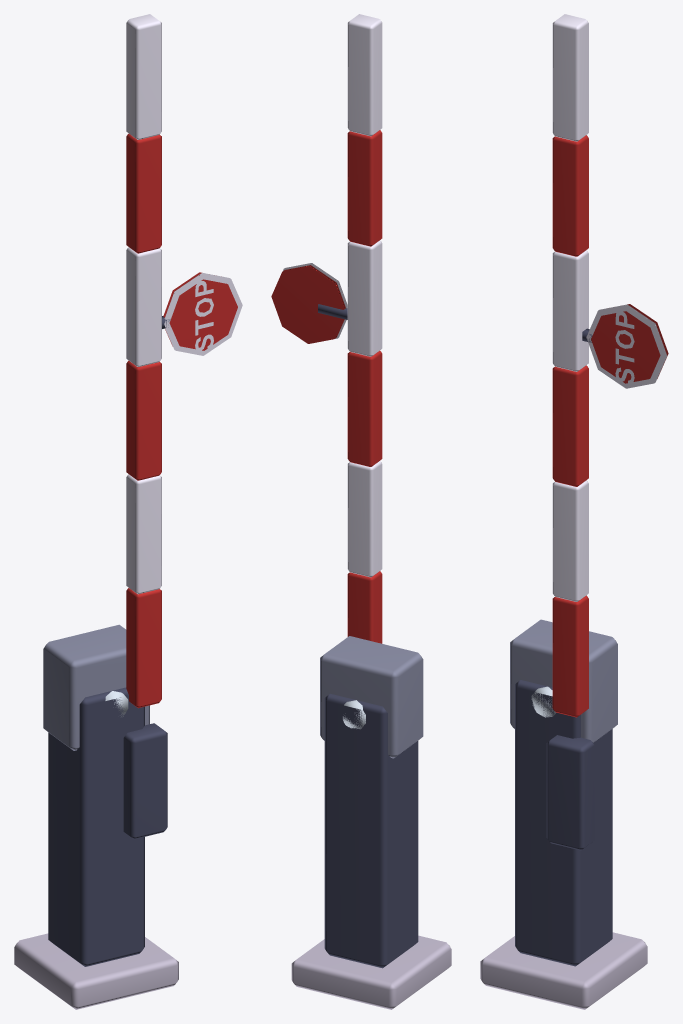
File: boom_gate_up.glb
3 views of the same model, side by side, from view 1: azimuth 30°, elevation 25°; view 2: azimuth 150°, elevation 25°; view 3: azimuth 330°, elevation 25° (orthographic). The views are drawn at different scales.
Visible parts, largest first — view 1: Gate; view 2: Gate; view 3: Gate.
Boxes of the visible parts, <box> form: Gate: <box>14,14,242,1009</box>; Gate: <box>271,14,451,1009</box>; Gate: <box>480,14,668,1009</box>.
Size of the model in its own units: 0.655 by 3.4 by 0.4.
